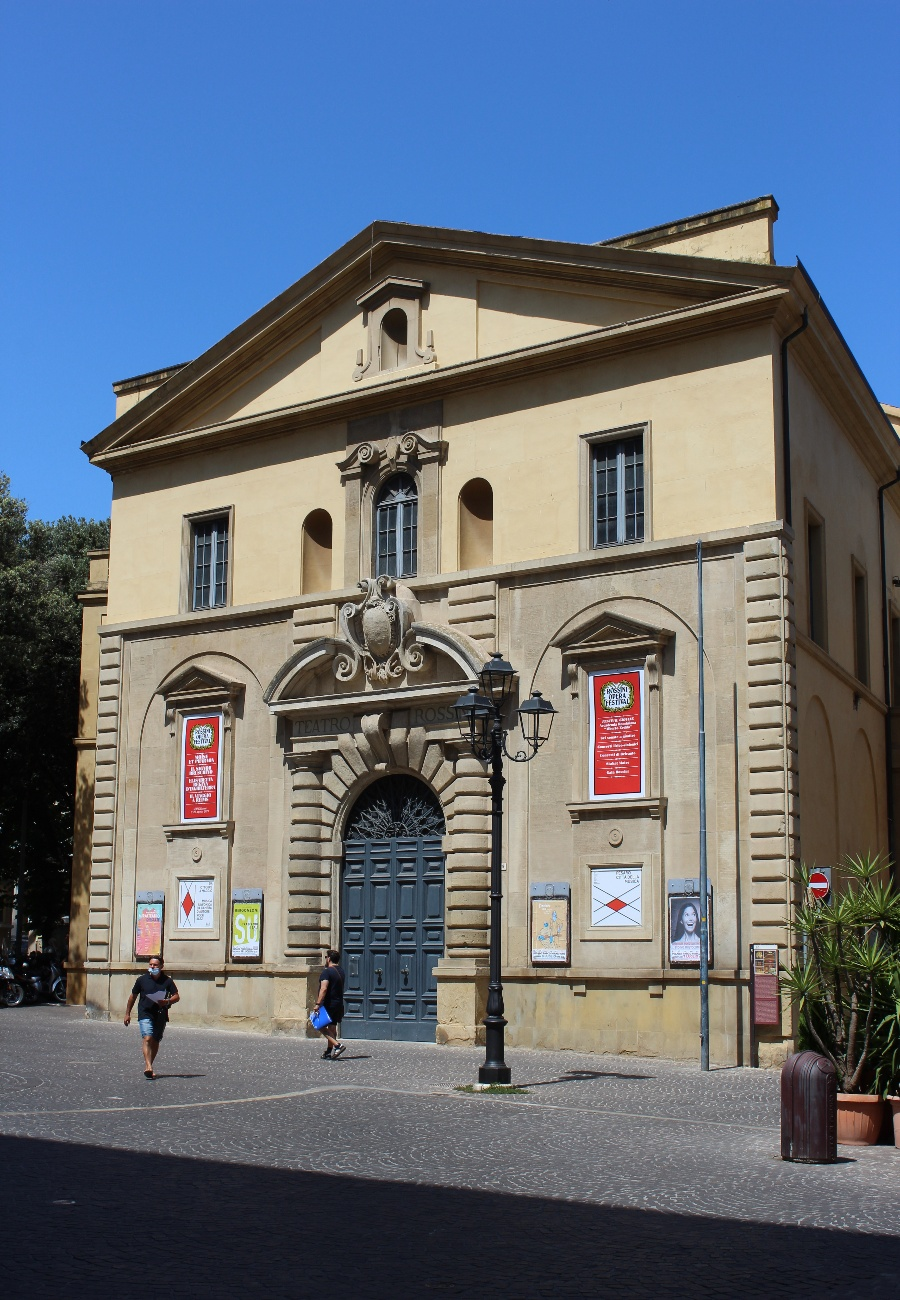Teatro Rossini: (75, 189, 808, 1078)
